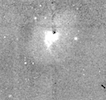Halpha: (41, 46, 73, 76)
